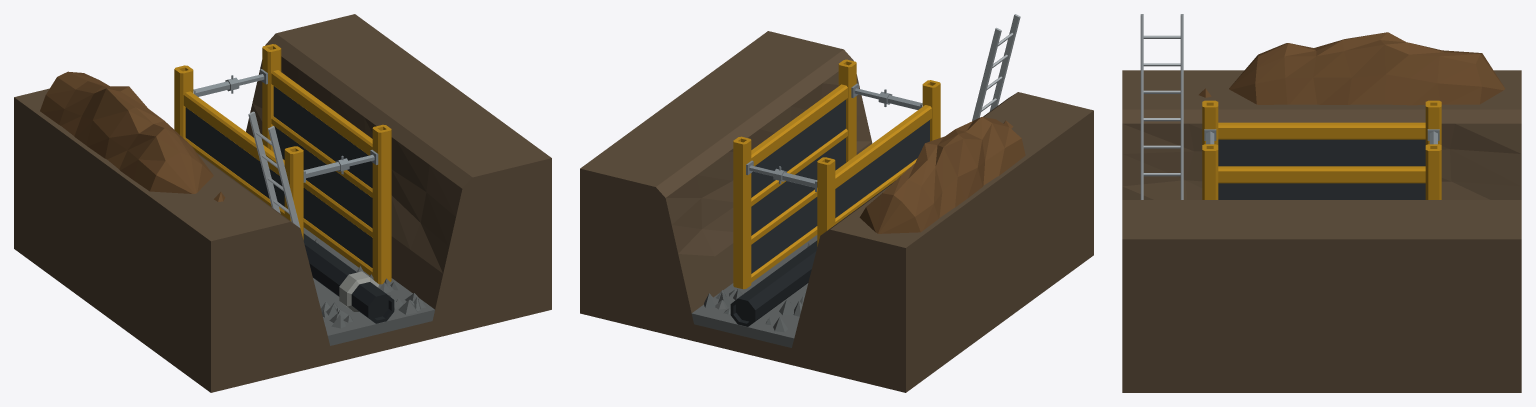
Rendered from open-trench-bay-45eddb.glb.
The picture shows the model from 3 angles, left to right: view 1: azimuth 30°, elevation 25°; view 2: azimuth 150°, elevation 25°; view 3: azimuth 270°, elevation 25°; orthographic projection. The views are drawn at different scales.
Visible parts, largest first — view 1: trench, trench-box-mesh, ladder-mesh; view 2: trench, trench-box-mesh, ladder-mesh; view 3: trench, trench-box-mesh, ladder-mesh.
Boxes of the visible parts, left/top/right/bottom form: trench: left=14, top=14, right=551, bottom=392; trench-box-mesh: left=174, top=44, right=391, bottom=284; ladder-mesh: left=248, top=111, right=300, bottom=227; trench: left=580, top=31, right=1093, bottom=392; trench-box-mesh: left=733, top=59, right=940, bottom=289; ladder-mesh: left=972, top=14, right=1020, bottom=121; trench: left=1122, top=32, right=1521, bottom=392; trench-box-mesh: left=1202, top=100, right=1441, bottom=199; ladder-mesh: left=1140, top=14, right=1183, bottom=199.
Bounding box in the file's own units: 4 × 2.71 × 4.
